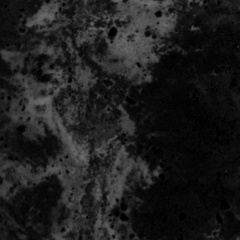Vegetation: (59, 134, 131, 240), (3, 58, 58, 137), (116, 1, 153, 82), (61, 60, 93, 139), (38, 1, 76, 60), (79, 25, 118, 73), (1, 161, 67, 183), (150, 1, 177, 44), (131, 159, 155, 186), (120, 110, 133, 135)
